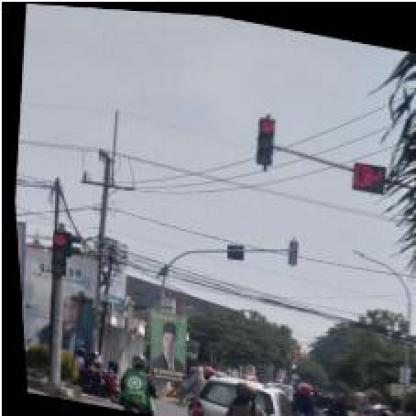red: (249, 109, 275, 162), (44, 228, 66, 278)
